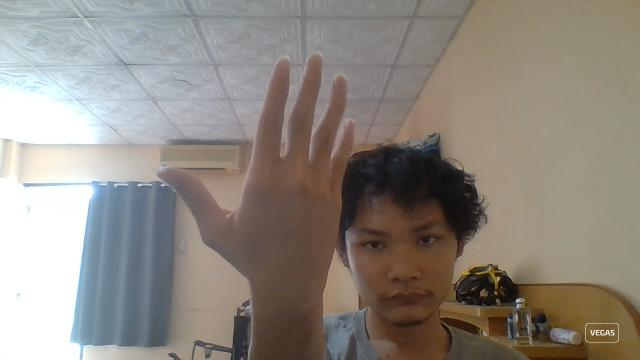backword: (156, 52, 356, 298)
